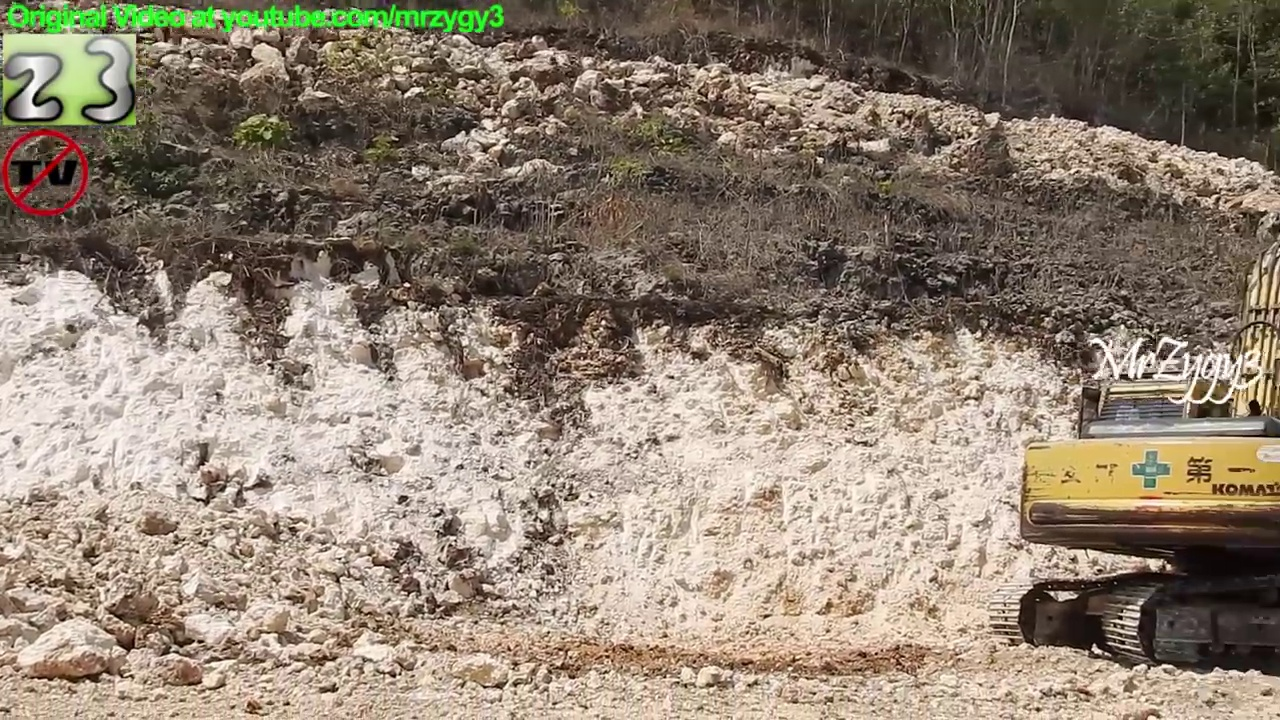excavator: (981, 223, 1280, 678)
